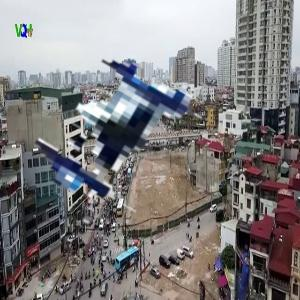drone: (11, 8, 298, 295)
